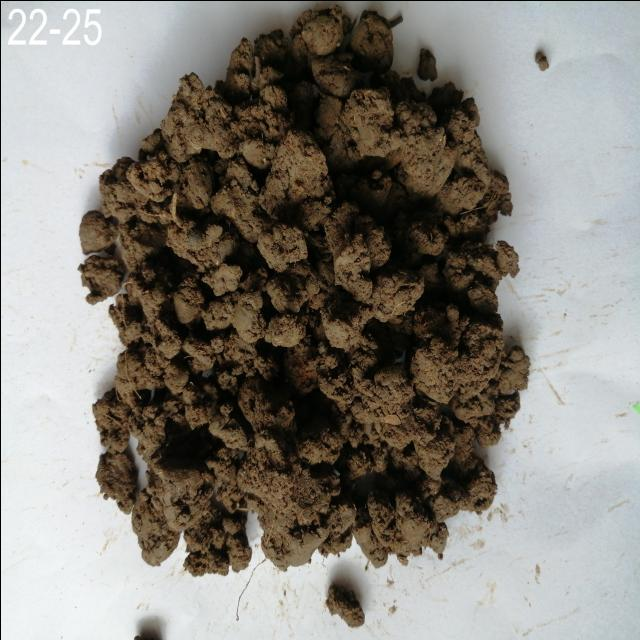soil: (178, 94, 484, 504)
